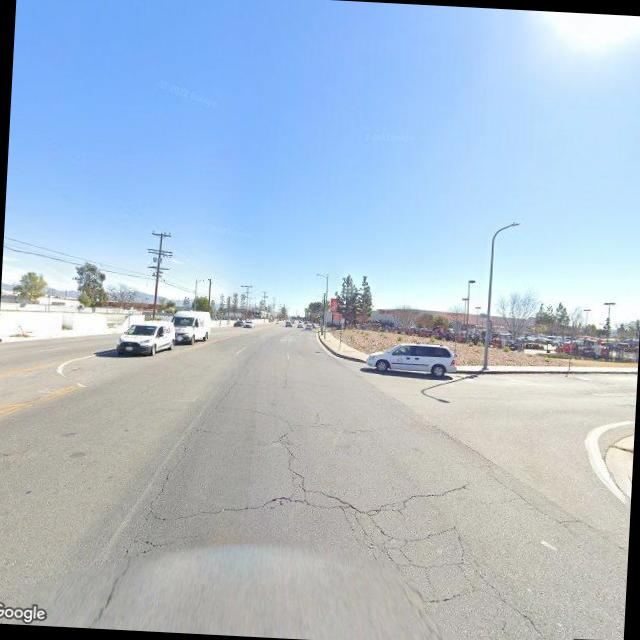crack: (90, 376, 228, 624), (344, 493, 544, 640), (146, 466, 465, 540), (273, 412, 319, 516)
